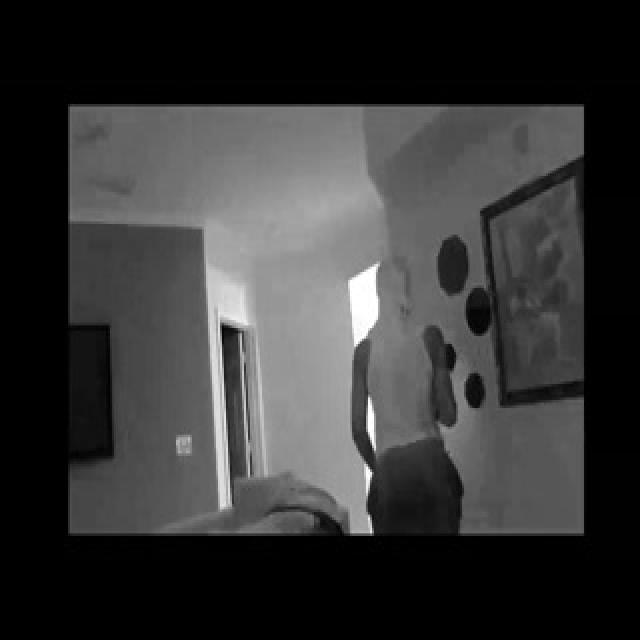thief: (351, 243, 444, 404)
